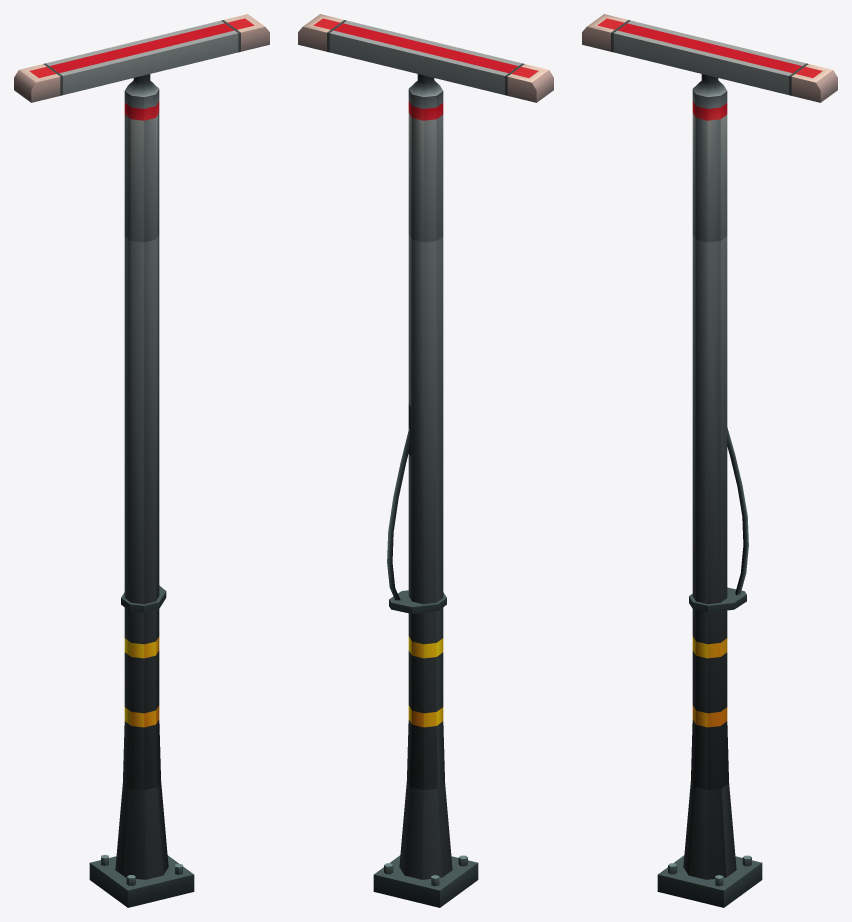
File: tp_radar_01a.glb
The picture shows the model from 3 angles, left to right: view 1: azimuth 30°, elevation 25°; view 2: azimuth 150°, elevation 25°; view 3: azimuth 330°, elevation 25°; orthographic projection.
Visible parts, largest first — view 1: TP_Radar_01A, TP_Radar_01A_Dish; view 2: TP_Radar_01A, TP_Radar_01A_Dish; view 3: TP_Radar_01A, TP_Radar_01A_Dish.
Part boxes in pixels (x1=…): TP_Radar_01A: x1=89, y1=74, x2=194, y2=907; TP_Radar_01A_Dish: x1=14, y1=14, x2=269, y2=102; TP_Radar_01A: x1=373, y1=74, x2=478, y2=907; TP_Radar_01A_Dish: x1=298, y1=14, x2=553, y2=102; TP_Radar_01A: x1=657, y1=74, x2=762, y2=907; TP_Radar_01A_Dish: x1=582, y1=14, x2=837, y2=102.
Bounding box in the file's own units: 7.21 × 24.2 × 2.
Materials: 1 (1 with a texture image).
